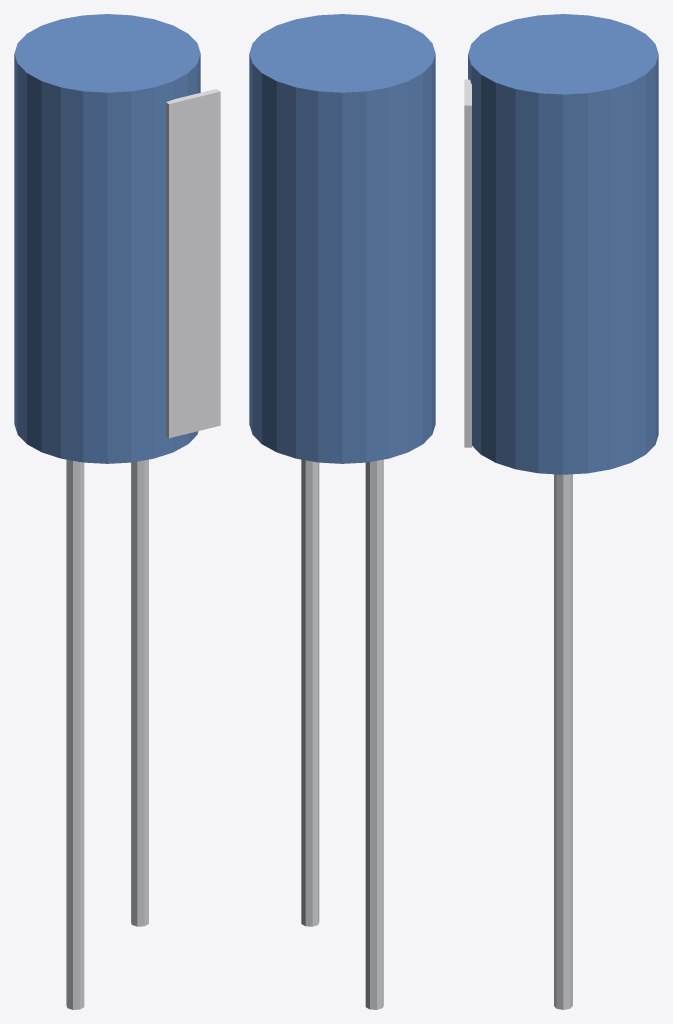
The model's file is radial-electrolytic.glb.
3 renders of one model, left to right at view 1: azimuth 30°, elevation 25°; view 2: azimuth 150°, elevation 25°; view 3: azimuth 270°, elevation 25°, orthographic. The views are drawn at different scales.
Visible parts, largest first — view 1: radial-electrolytic_body, radial-electrolytic, radial-electrolytic_stripe; view 2: radial-electrolytic_body, radial-electrolytic; view 3: radial-electrolytic_body, radial-electrolytic, radial-electrolytic_stripe.
Boxes of the visible parts, left/top/right/bottom form: radial-electrolytic_body: left=14, top=14, right=200, bottom=463; radial-electrolytic: left=66, top=459, right=148, bottom=1009; radial-electrolytic_stripe: left=166, top=89, right=220, bottom=438; radial-electrolytic_body: left=249, top=14, right=435, bottom=463; radial-electrolytic: left=301, top=459, right=383, bottom=1009; radial-electrolytic_body: left=468, top=14, right=658, bottom=474; radial-electrolytic: left=554, top=474, right=572, bottom=1009; radial-electrolytic_stripe: left=464, top=79, right=471, bottom=447.
Size of the model in its own units: 0.005 by 0.028 by 0.0051.
